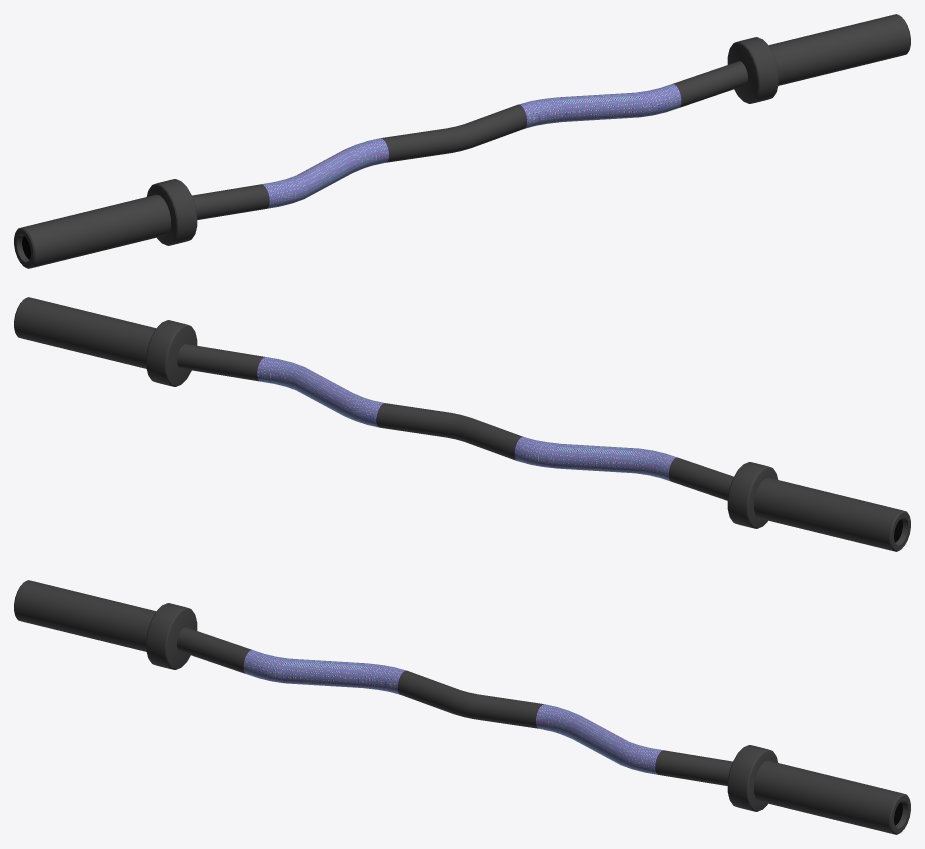
The model's file is Barbell_Bar_3.FBX.
3 renders of one model, top to bottom at view 1: azimuth 30°, elevation 25°; view 2: azimuth 150°, elevation 25°; view 3: azimuth 330°, elevation 25°, orthographic.
Parts seen in each view (by area): view 1: Barbell_Bar_3; view 2: Barbell_Bar_3; view 3: Barbell_Bar_3.
Part boxes in pixels (box(x1,y1,x2,y2)): Barbell_Bar_3: box(14, 14, 910, 268); Barbell_Bar_3: box(14, 297, 910, 551); Barbell_Bar_3: box(14, 580, 910, 834).
Bounding box in the file's own units: 1.2 × 0.0787 × 0.0766.
